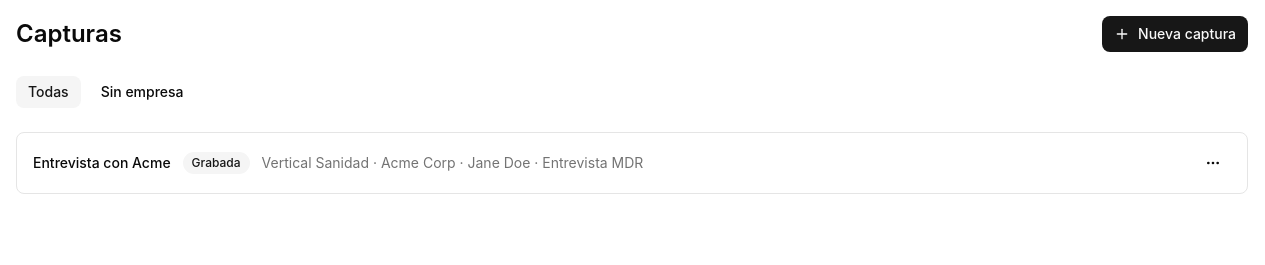
Test: CapturesPage › listing › shows the "No hay capturas sin empresa" filtered empty state when the filter matches nothing
expect the link "Entrevista con Acme" is shown: met, box [33,153,171,173]
Click the button "Sin empresa".
click(142, 92)  # box [89,76,196,108]
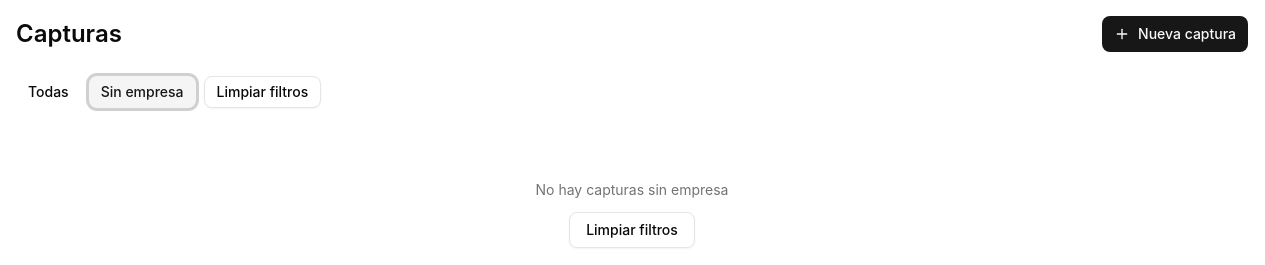
expect the number of buttons "Limpiar filtros" is 2: met
El botón del EMPTY STATE limpia el filtro y restaura el listado
Click the button "Limpiar filtros" below "No hay capturas sin empresa".
click(632, 230)  # box [569,212,695,248]
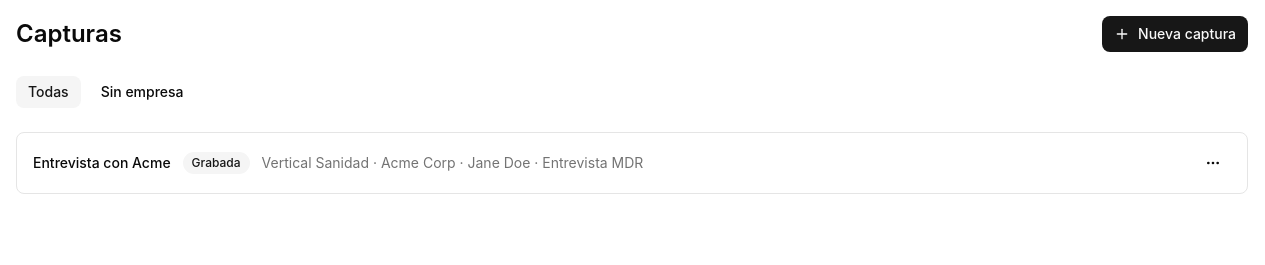
expect the link "Entrevista con Acme" is shown: met, box [33,153,171,173]
expect the text "No hay capturas sin empresa" is gone: met
